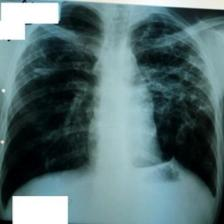tuberculosis: (2, 0, 221, 223)
